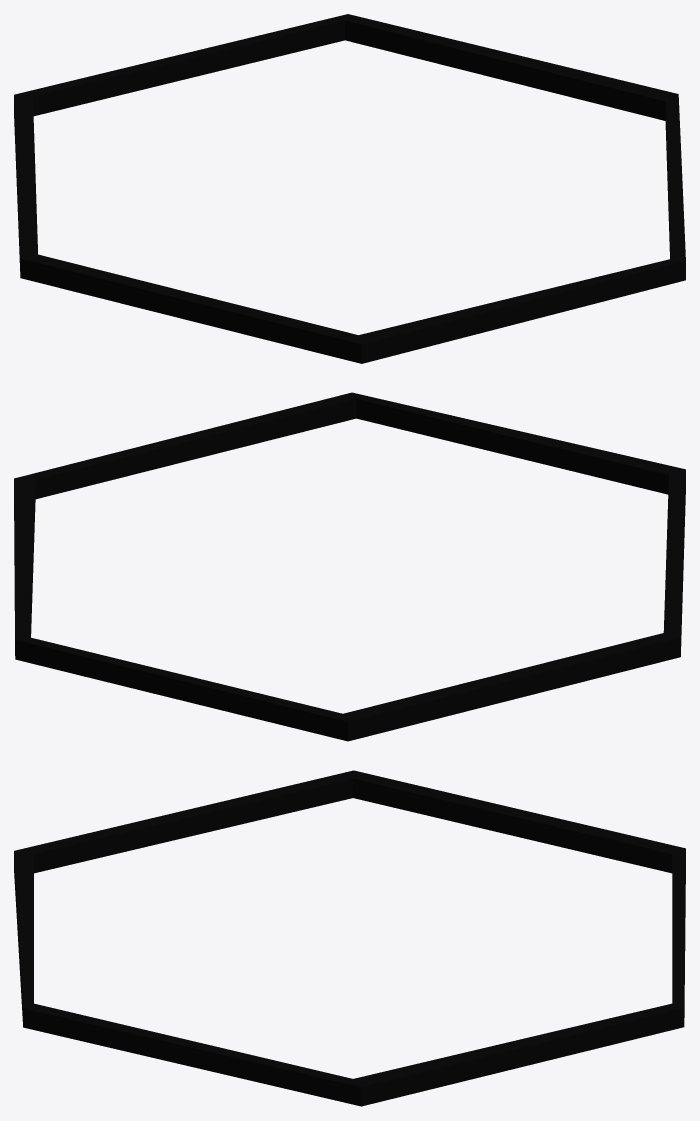
Rendered from GroundBuildFrame.fbx.
3 renders of one model, top to bottom at view 1: azimuth 30°, elevation 25°; view 2: azimuth 150°, elevation 25°; view 3: azimuth 270°, elevation 25°, orthographic. The views are drawn at different scales.
Visible parts, largest first — view 1: GroundBuildFrame; view 2: GroundBuildFrame; view 3: GroundBuildFrame.
Boxes of the visible parts, x1,y1,x2,y2 form: GroundBuildFrame: (14,14,685,363); GroundBuildFrame: (14,392,685,741); GroundBuildFrame: (14,770,685,1106).
Bounding box in the file's own units: 159 × 4.53 × 143.
